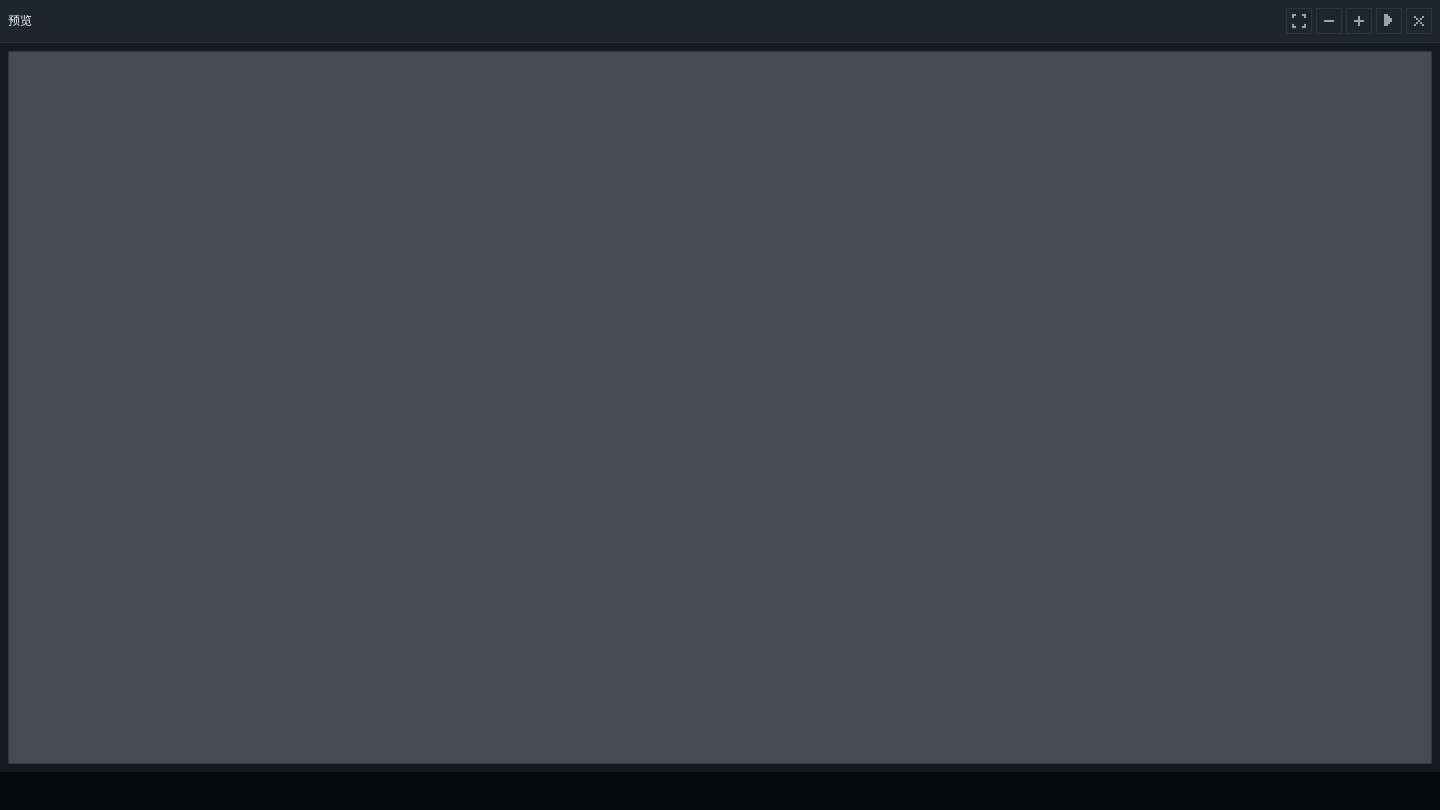
it: PreviewPanel animation controls › keeps preview playback independent from canvas playback
The image size is (1440, 810).
Right-click the button named "播放动画" at (1389, 21), box [1376,8,1402,34]
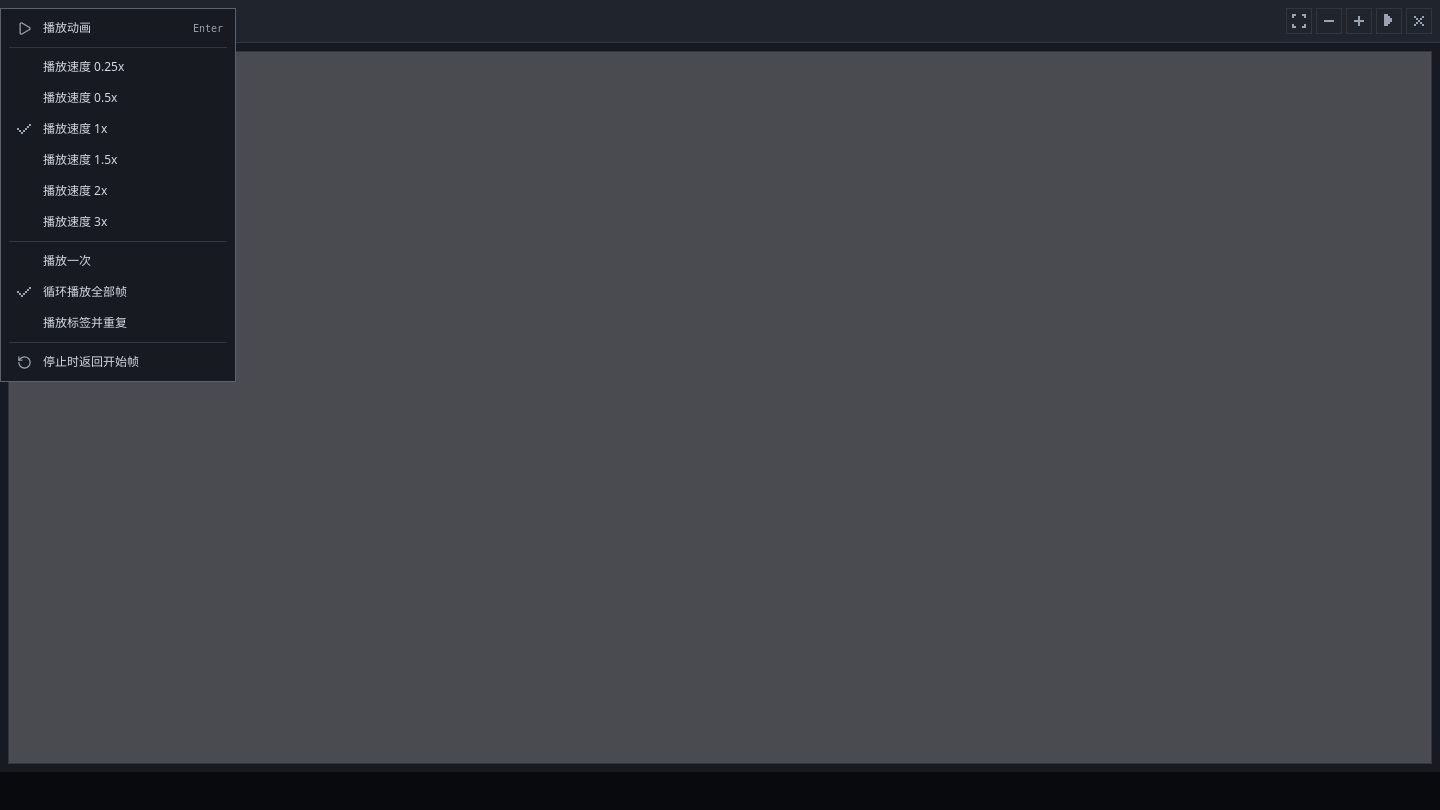
Check: the menu named "播放设置" is shown, box [0,8,236,382]
Click the menu item "播放速度 2x" at (118, 191), box [5,176,231,206]
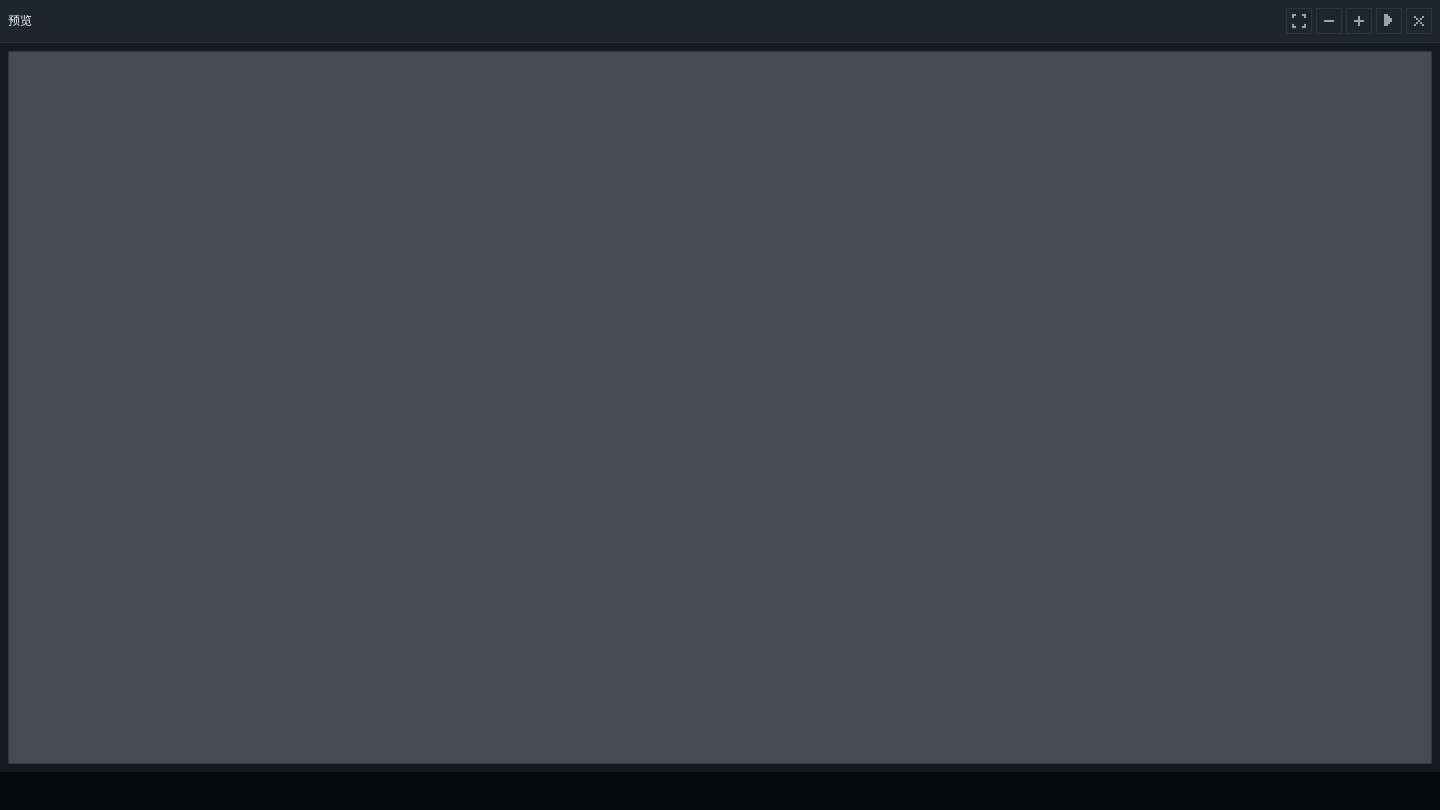
Right-click the button named "播放动画" at (1389, 21), box [1376,8,1402,34]
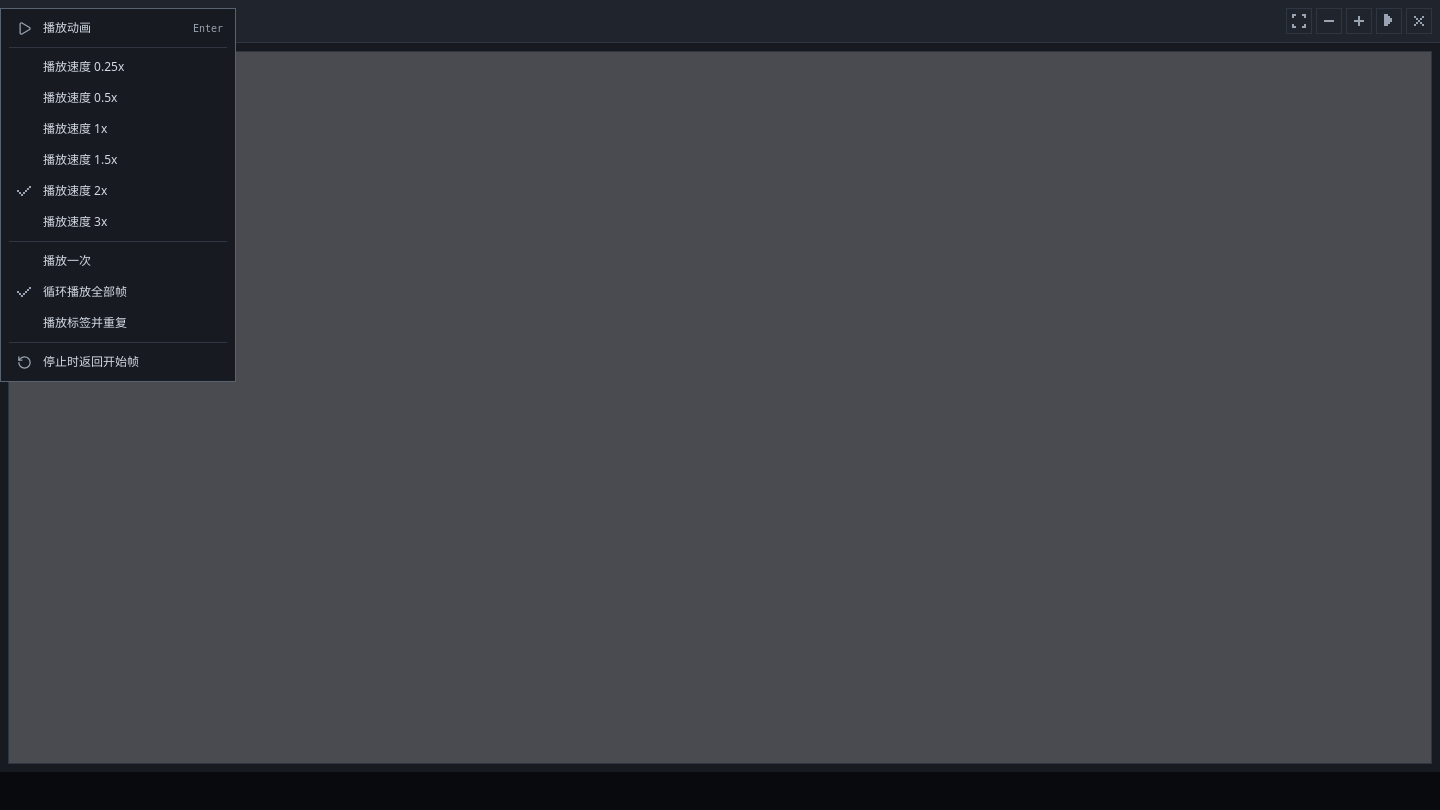
Click the menu item "播放标签并重复" at (118, 323), box [5,308,231,338]
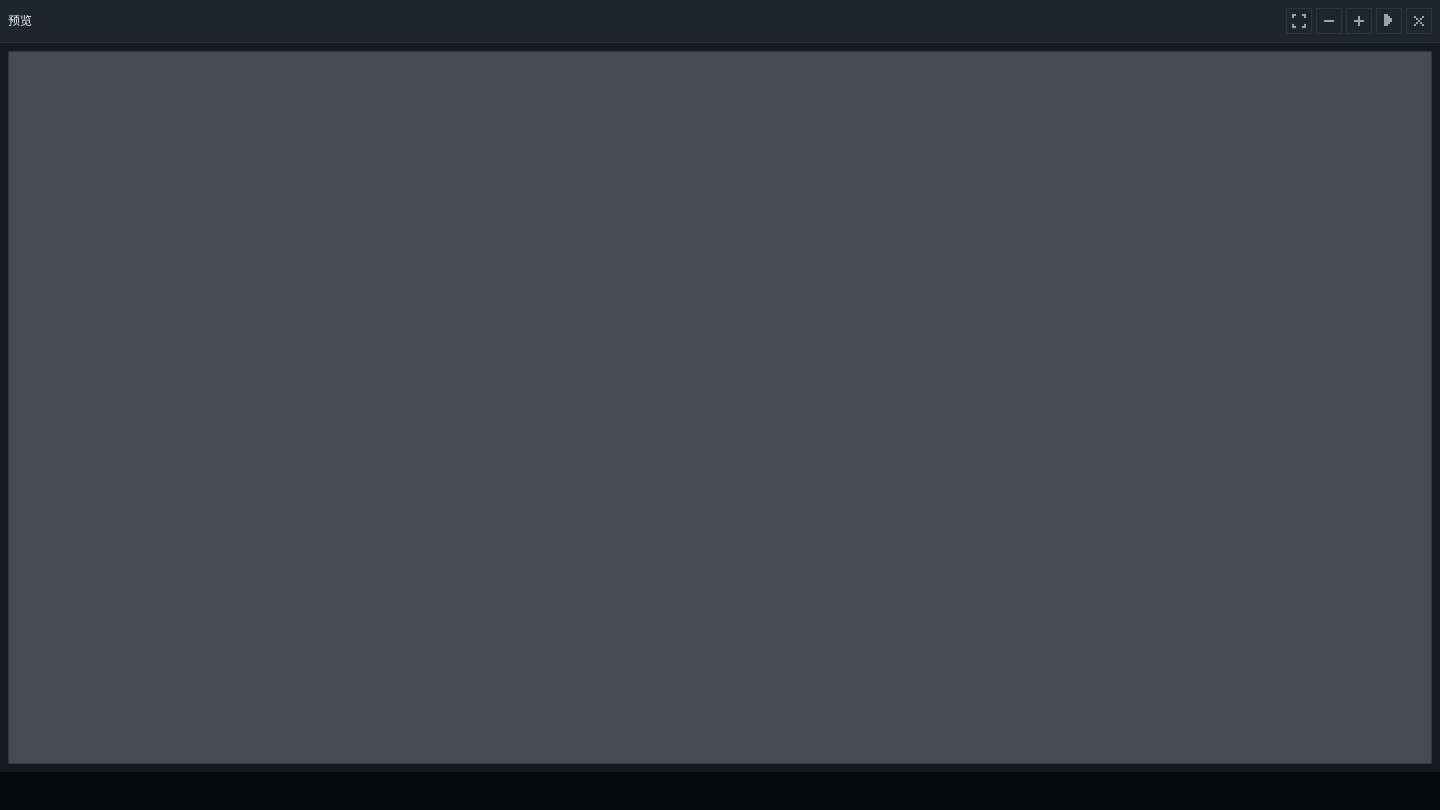
Click the button named "播放动画" at (1389, 21), box [1376,8,1402,34]
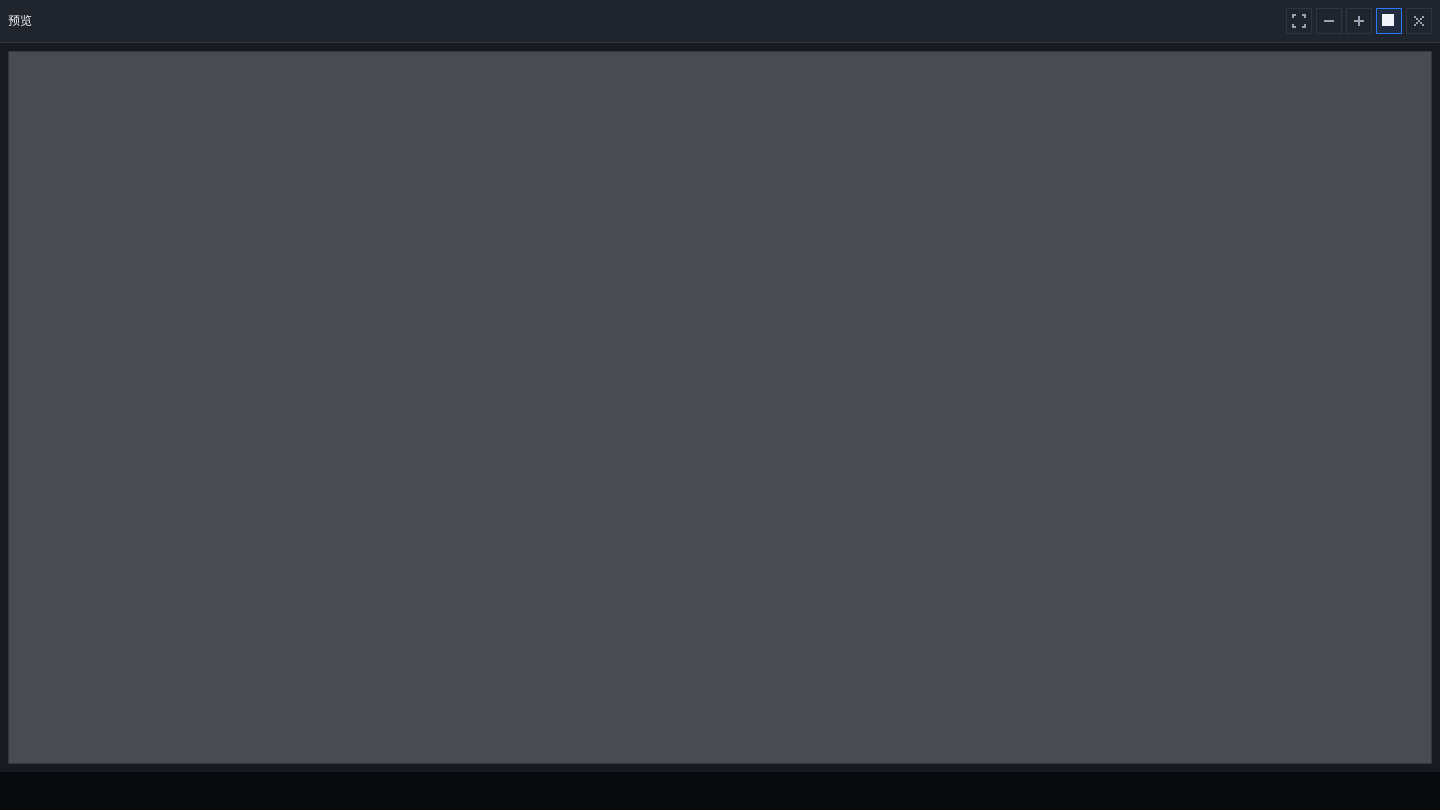
Check: the button named "暂停动画" is shown, box [1376,8,1402,34]
